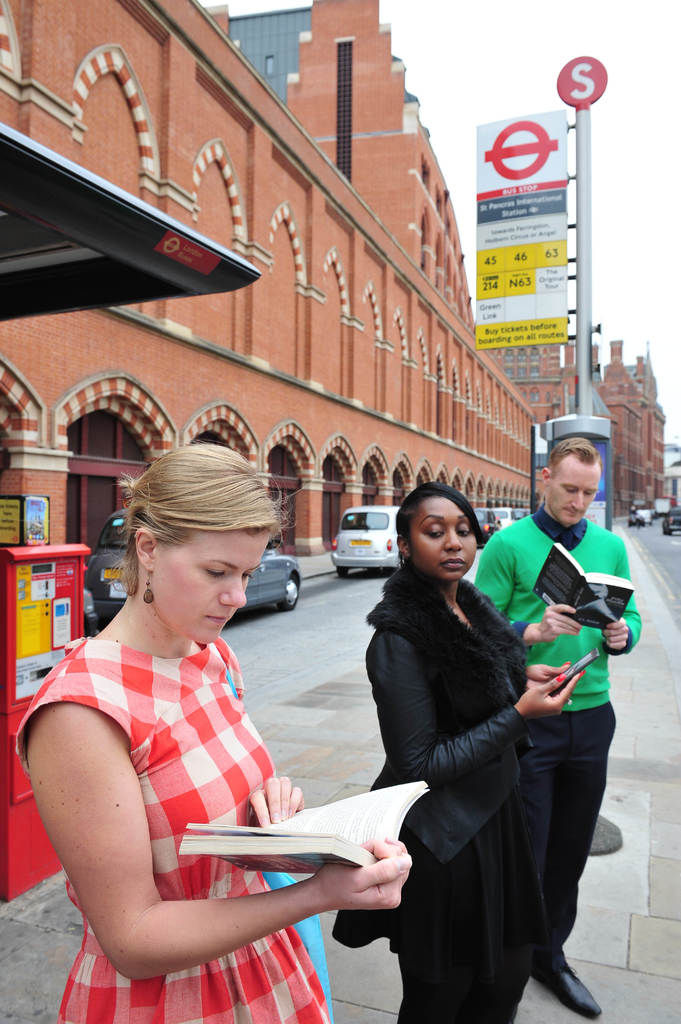Footwear: (533, 955, 601, 1021)
